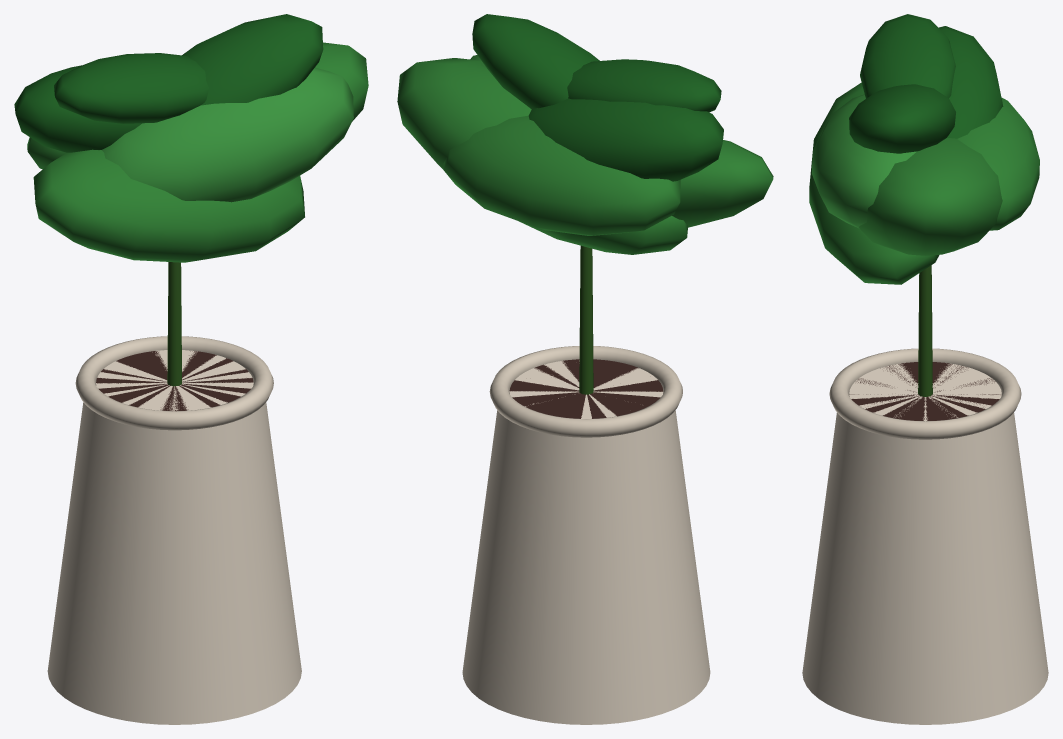
Rendered from plant-pot.glb.
The picture shows the model from 3 angles, left to right: view 1: azimuth 30°, elevation 25°; view 2: azimuth 150°, elevation 25°; view 3: azimuth 270°, elevation 25°; orthographic projection. The views are drawn at different scales.
Bounding box in the file's own units: 0.324 × 0.5518 × 0.2.
